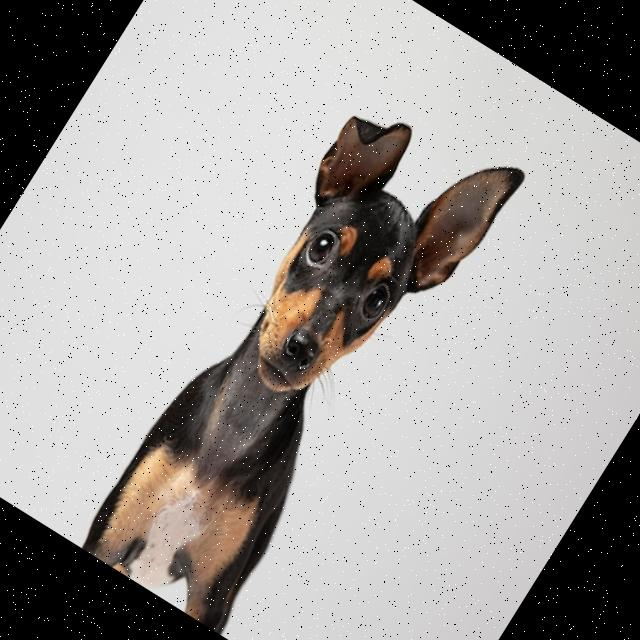Dog: (75, 74, 527, 640)
